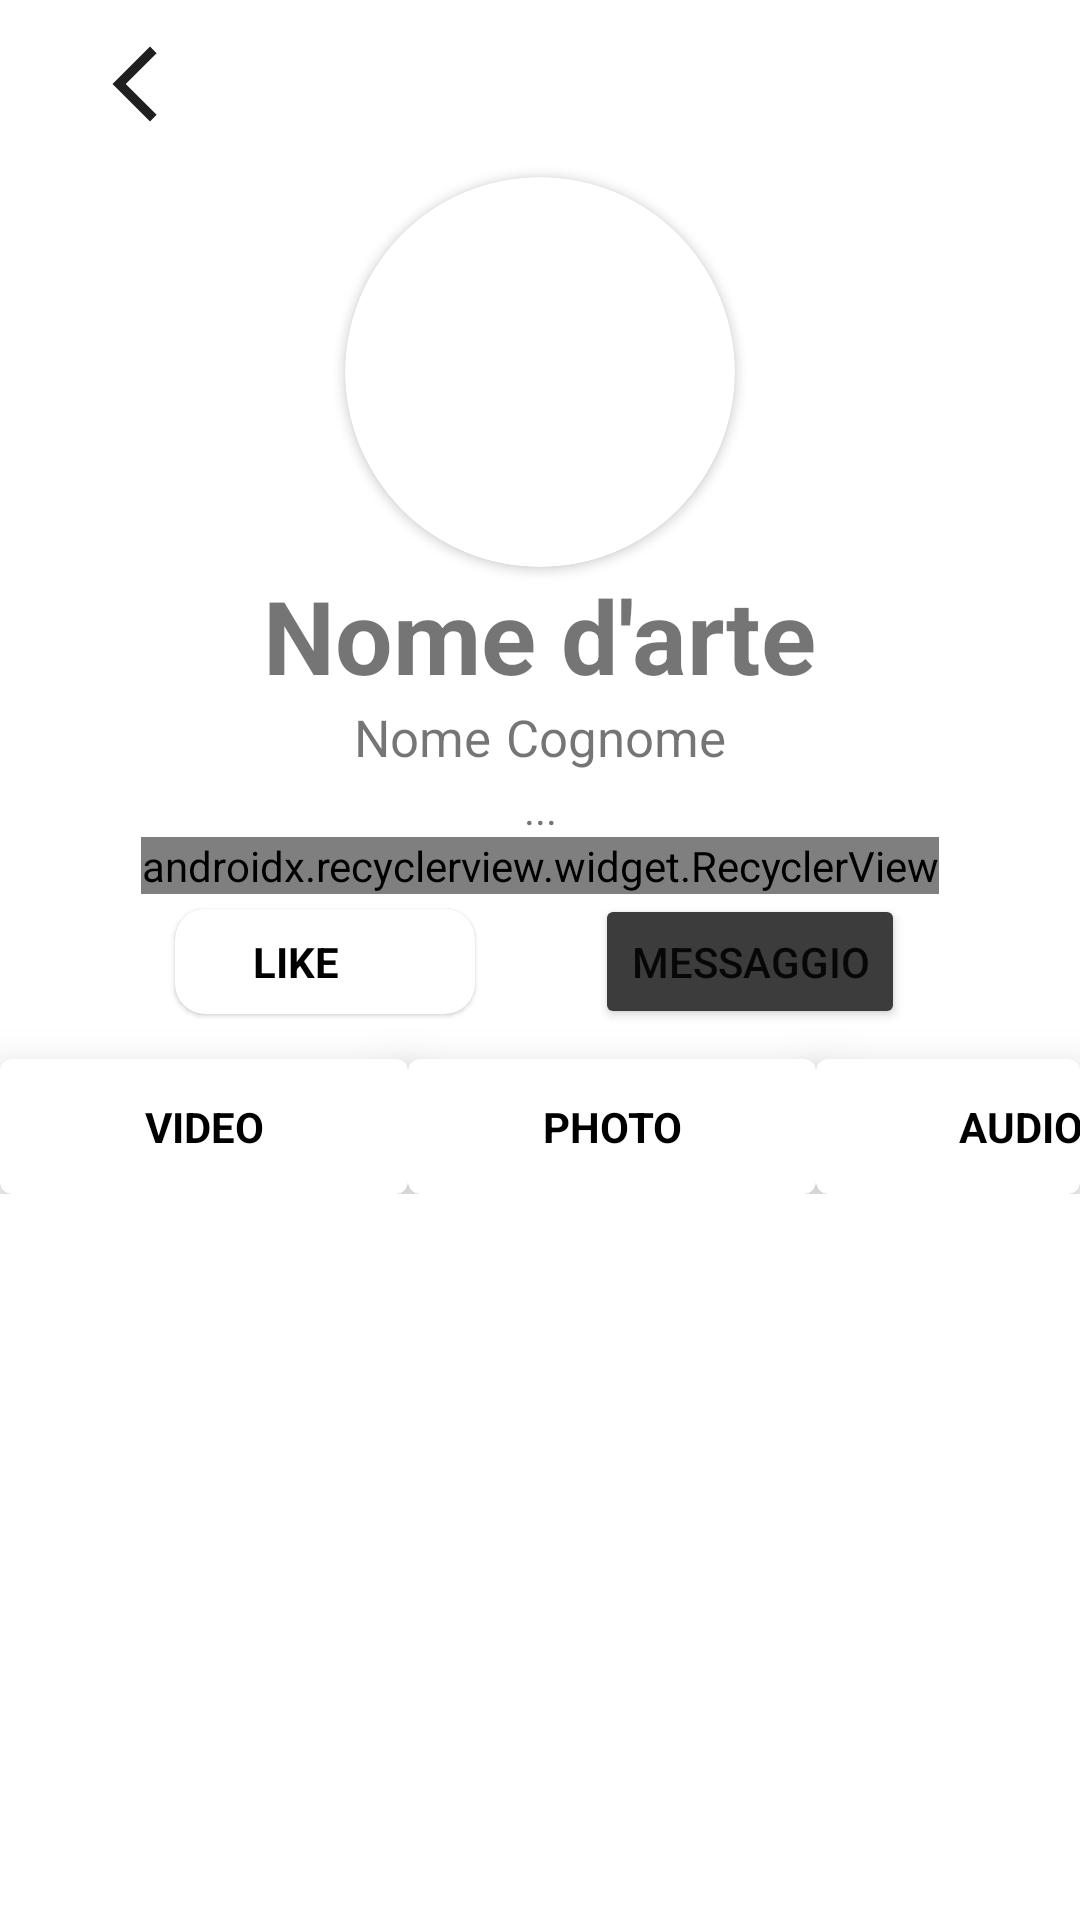

Where to tap for icons on this 1080 x 1920 app screen, as (x,y):
arrow back: (134,84)
